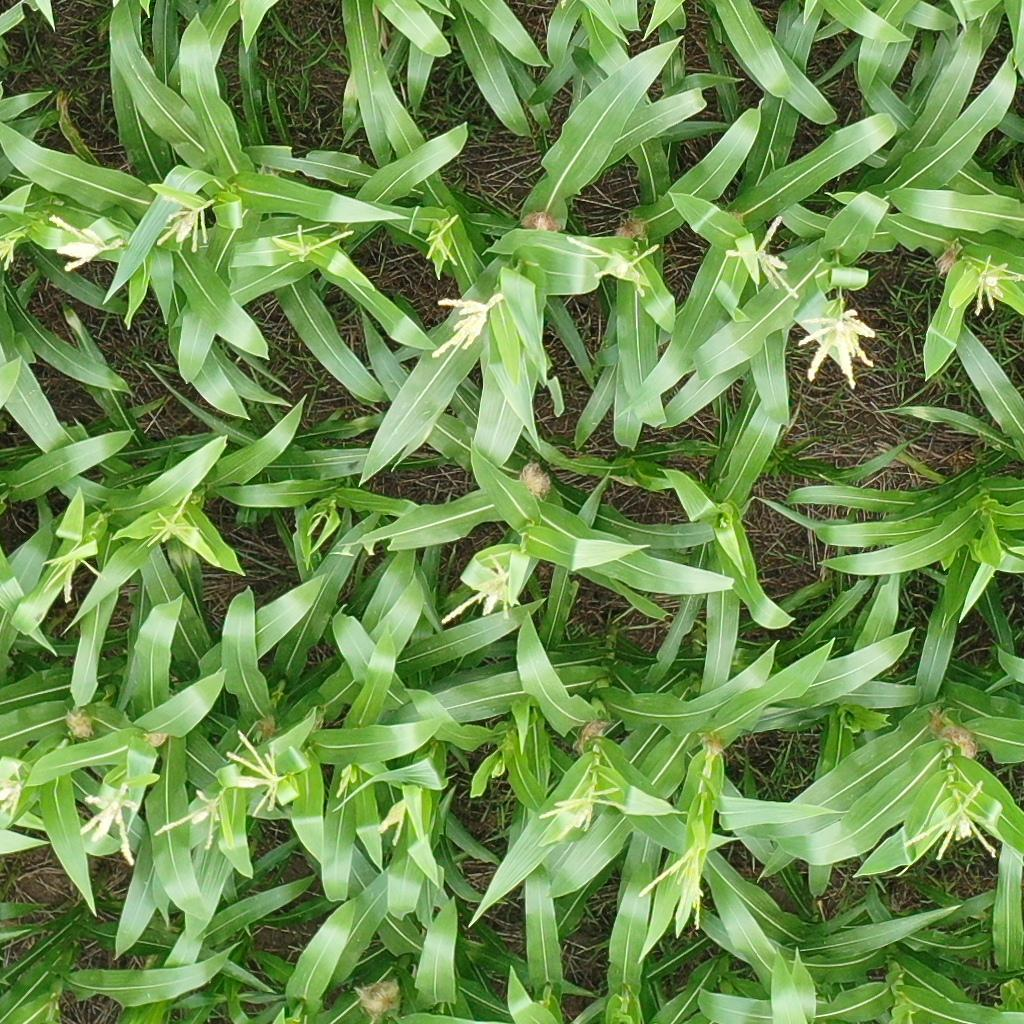Tassel: (904, 777, 1000, 865), (564, 225, 664, 299), (638, 840, 712, 939), (794, 308, 879, 394), (725, 215, 805, 300), (74, 782, 148, 871), (438, 554, 519, 628), (224, 730, 289, 817), (154, 788, 228, 856), (537, 787, 630, 840), (431, 291, 504, 358), (48, 213, 125, 274), (157, 197, 218, 256), (272, 223, 357, 265), (972, 251, 1023, 316), (151, 488, 201, 548), (43, 557, 103, 603), (379, 798, 425, 849), (426, 213, 462, 267), (1, 763, 28, 831), (1, 232, 24, 271), (335, 765, 359, 800), (306, 510, 331, 541)
